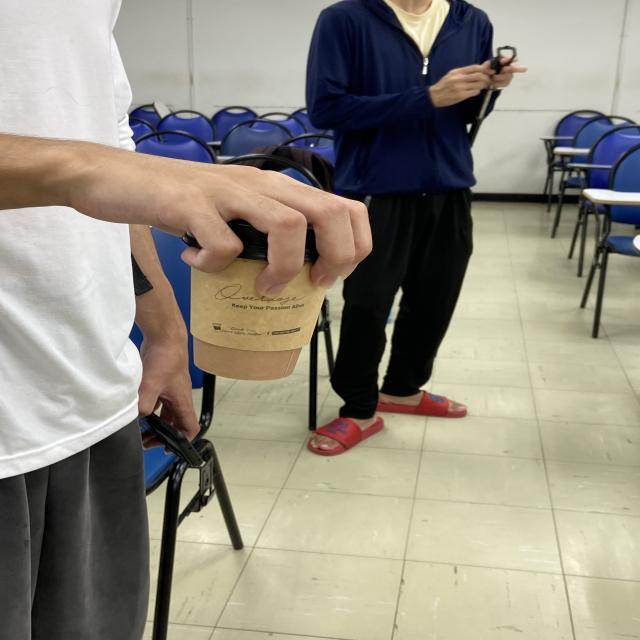cup: (179, 204, 340, 380)
